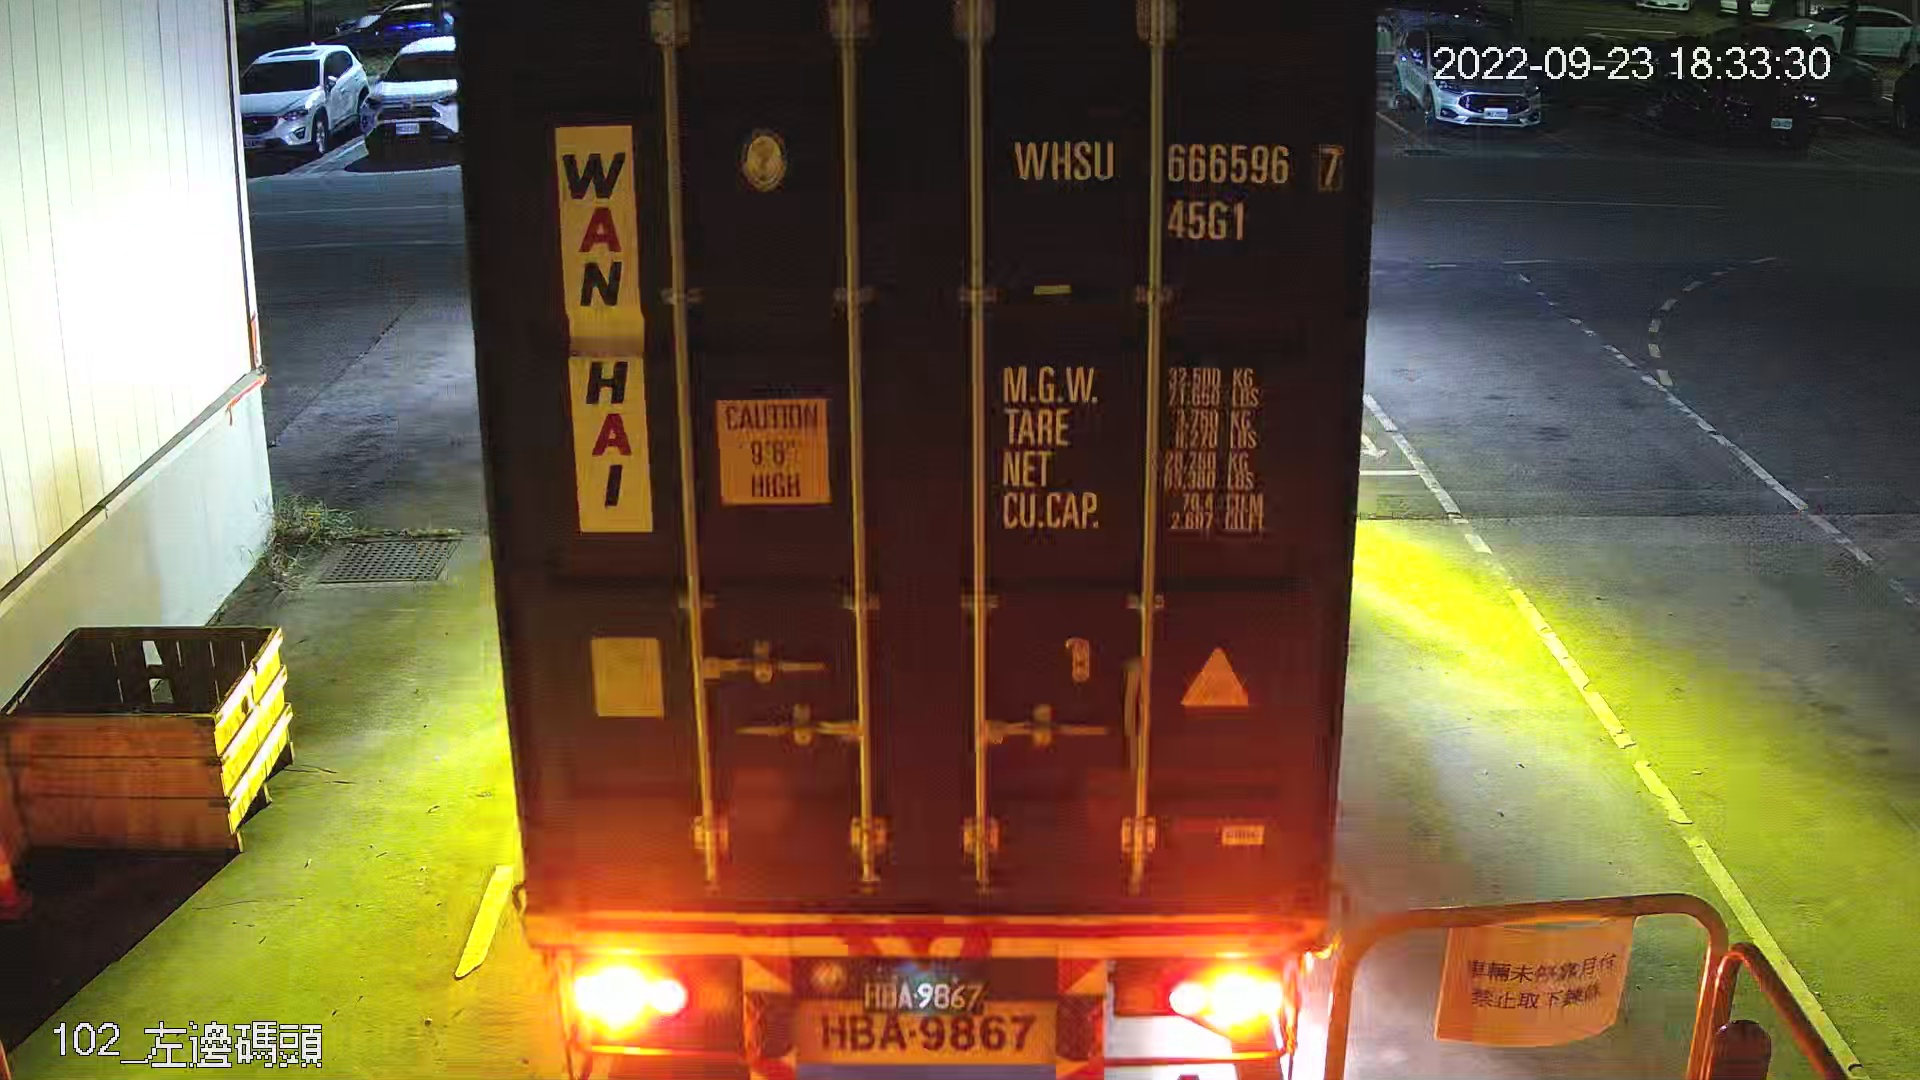container: (996, 111, 1356, 255)
